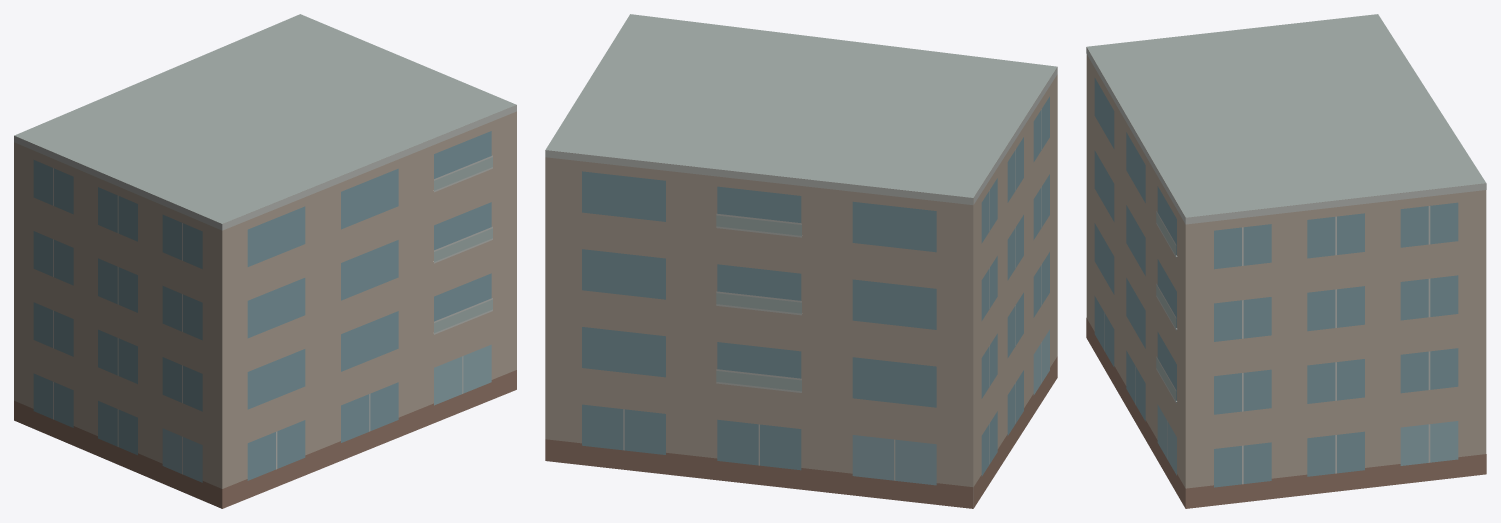
The model's file is survey-upis-32703849.glb.
3 views of the same model, side by side, from view 1: azimuth 30°, elevation 25°; view 2: azimuth 150°, elevation 25°; view 3: azimuth 270°, elevation 25° (orthographic). The views are drawn at different scales.
Visible parts, largest first — view 1: survey-upis-32703849.tmp; view 2: survey-upis-32703849.tmp; view 3: survey-upis-32703849.tmp.
Part boxes in pixels (left/top/right/bottom): survey-upis-32703849.tmp: left=14, top=14, right=516, bottom=508; survey-upis-32703849.tmp: left=545, top=14, right=1057, bottom=508; survey-upis-32703849.tmp: left=1086, top=14, right=1486, bottom=508.
Bounding box in the file's own units: 15.77 × 10.5 × 13.09.
